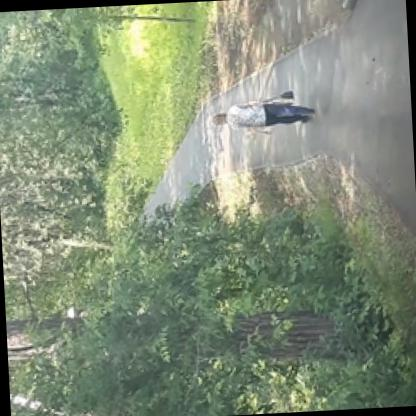Human Body: (208, 92, 316, 144)
